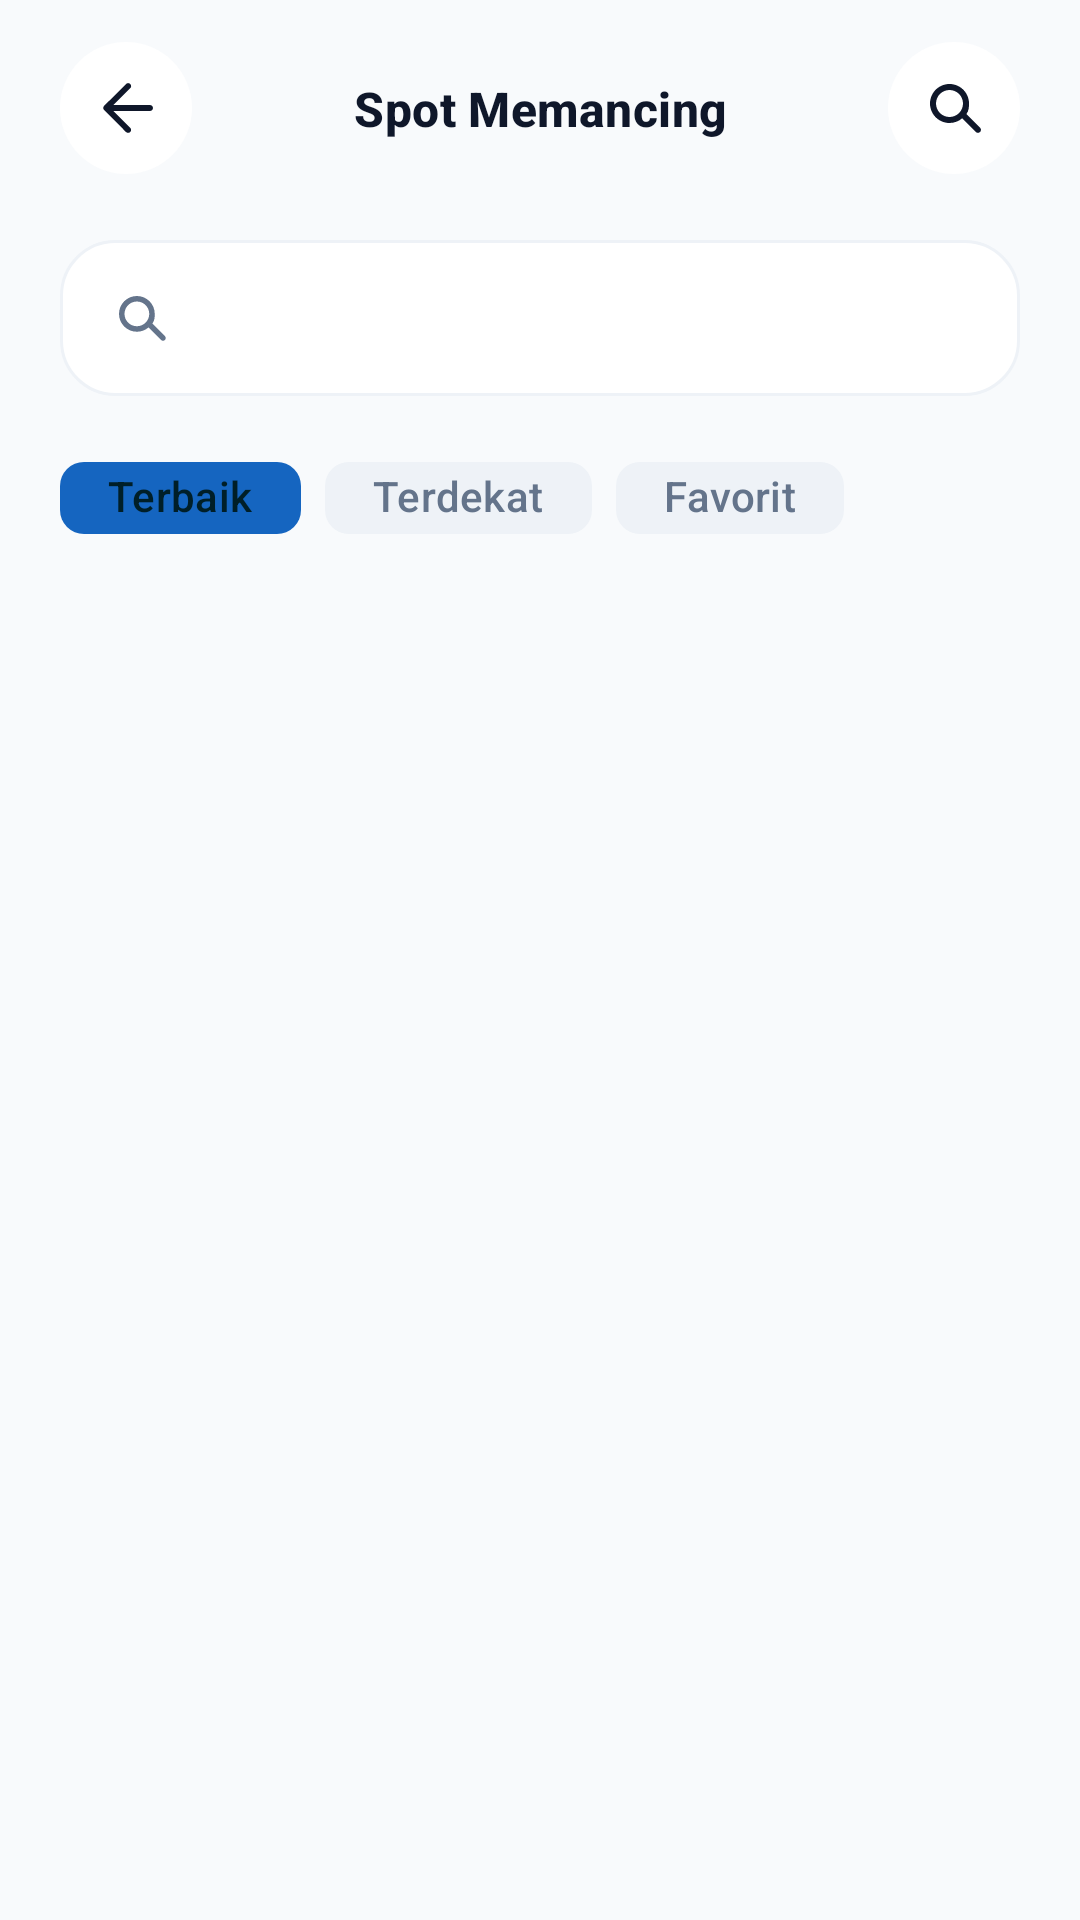

Icon click points for this 1080px x 1920px phone screenshot, format (x=x, y=y):
Cari: (x=955, y=108), (x=142, y=318)
Kembali: (x=128, y=108)
